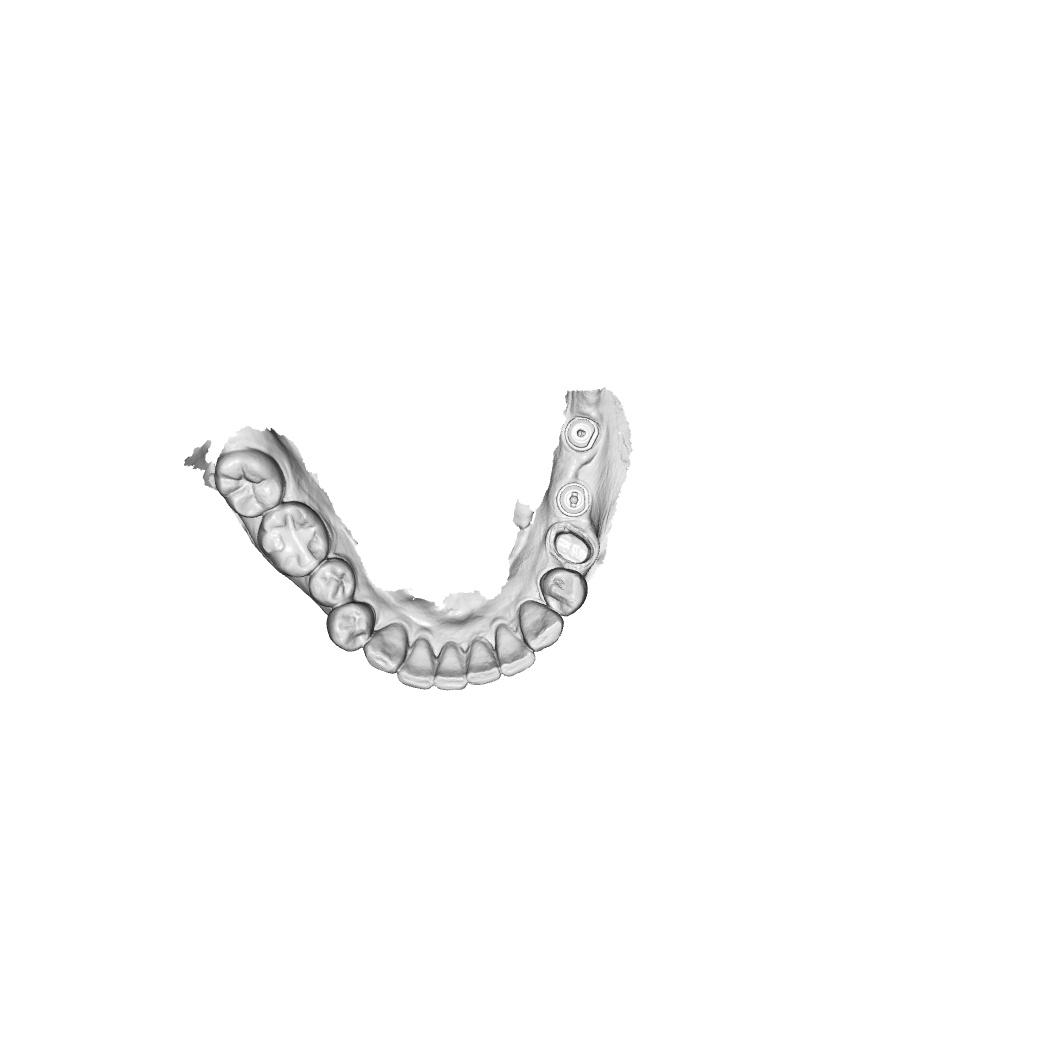canine: (362, 620, 409, 675), (517, 599, 564, 653)
crown: (547, 521, 595, 567)
implant: (563, 416, 601, 453)
implant_minus: (553, 480, 592, 518)
incisor: (494, 622, 536, 677), (397, 637, 437, 690), (465, 637, 502, 687), (433, 641, 468, 691)
molar: (255, 500, 331, 578), (212, 445, 287, 519)
premolar: (325, 600, 377, 652), (537, 567, 589, 618), (307, 556, 357, 608)
